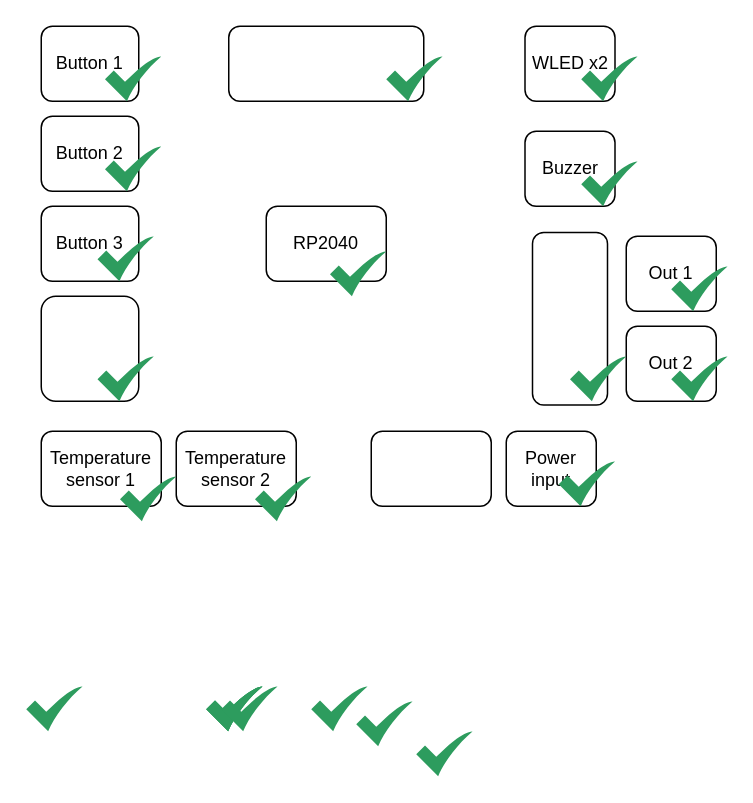
Some shapes in this 753 by 803 pixel diagram are drawn without their labels. The shapes that lost their labels are listed below. From the top down, each one's box as (x1, y1, x2, y2) in pixels, then its label:
(227, 25, 424, 101): Screen
(531, 231, 608, 405): Load Switch
(40, 295, 139, 401): Rotary Angle Sensor
(370, 430, 491, 506): Temperature sensor 3
